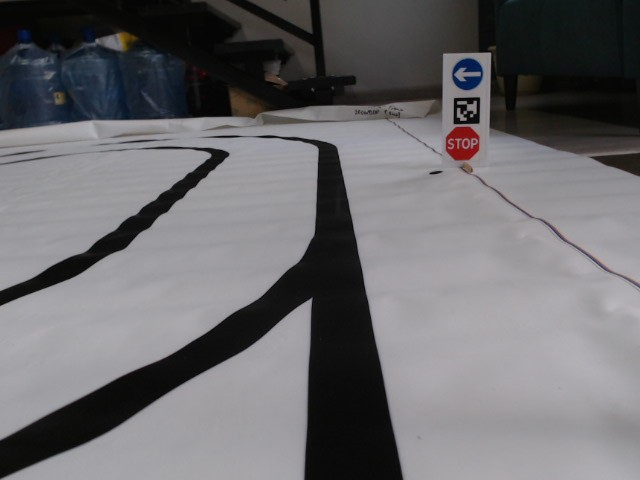Stop: (445, 125, 480, 160)
